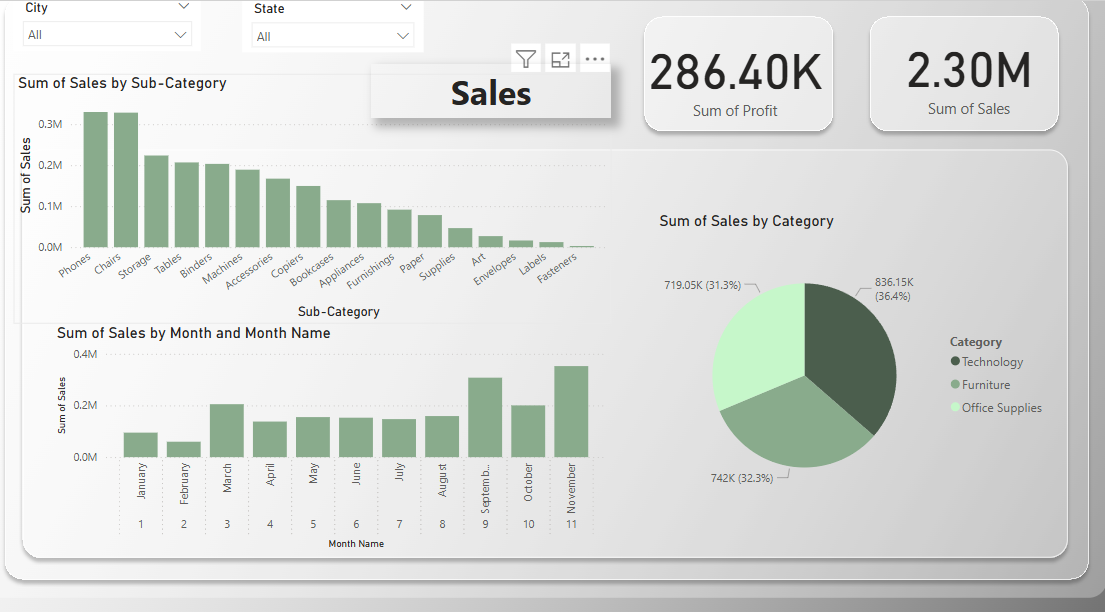

The page's visual inventory and layout, read from the dashboard file:
{"tool":"powerbi","page":{"name":"Page 1","canvas":[1280,720],"ordinal":0},"visuals":[{"type":"clusteredColumnChart","fields":{"Category":["Sample - Superstore.Month","Sample - Superstore.Month Name"],"Y":["Sum(Sample - Superstore.Sales)"]},"box":[122.1,399.3,613.4,252.5],"z":0},{"type":"pieChart","fields":{"Category":["Sample - Superstore.Category"],"Y":["Sum(Sample - Superstore.Sales)"]},"box":[783.5,275.8,439.1,341.7],"z":1000},{"type":"lineClusteredColumnComboChart","fields":{"Category":["Sample - Superstore.Sub-Category"],"Y":["Sum(Sample - Superstore.Sales)"]},"box":[79.6,124.9,655.9,274.4],"z":2000},{"type":"card","fields":{"Values":["Sum(Sample - Superstore.Sales)"]},"box":[1023.7,65.9,209.9,118],"z":3000},{"type":"card","fields":{"Values":["Sum(Sample - Superstore.Profit)"]},"box":[769.8,70,204.5,113.9],"z":4000},{"type":"slicer","fields":{"Values":["Sample - Superstore.City"]},"box":[79.6,38.4,205.8,61.7],"z":5000},{"type":"slicer","fields":{"Values":["Sample - Superstore.State"]},"box":[330.7,39.8,199,61.7],"z":6000},{"type":"textbox","box":[472,113.9,263.5,60.4],"z":7000}]}

Visuals, with their boxes in screenshot pixels (x1, y1, x2, y2), scaled from the page's 1280x720 canvas onto the 1105x612 screenshot:
clusteredColumnChart - Sample - Superstore.Month x Sample - Superstore.Month Name: left=105, top=339, right=635, bottom=554
pieChart - Sample - Superstore.Category x Sum(Sample - Superstore.Sales): left=676, top=234, right=1055, bottom=525
lineClusteredColumnComboChart - Sample - Superstore.Sub-Category x Sum(Sample - Superstore.Sales): left=69, top=106, right=635, bottom=339
card - Sum(Sample - Superstore.Sales): left=884, top=56, right=1065, bottom=156
card - Sum(Sample - Superstore.Profit): left=665, top=60, right=841, bottom=156
slicer - Sample - Superstore.City: left=69, top=33, right=246, bottom=85
slicer - Sample - Superstore.State: left=285, top=34, right=457, bottom=86
textbox: left=407, top=97, right=635, bottom=148
